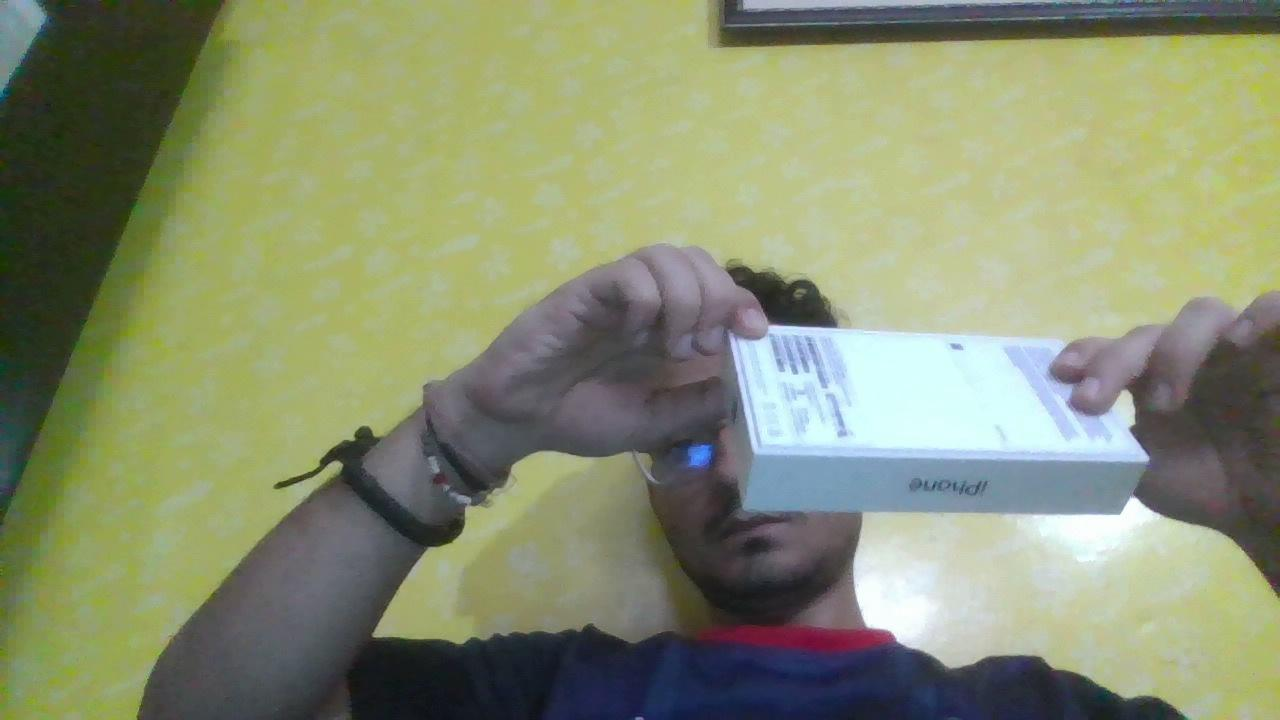Phone: (719, 302, 1163, 531)
